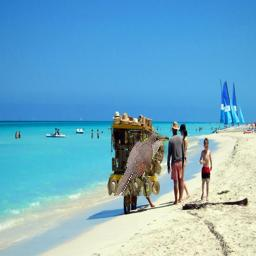Cuckoo: (115, 134, 170, 197)
